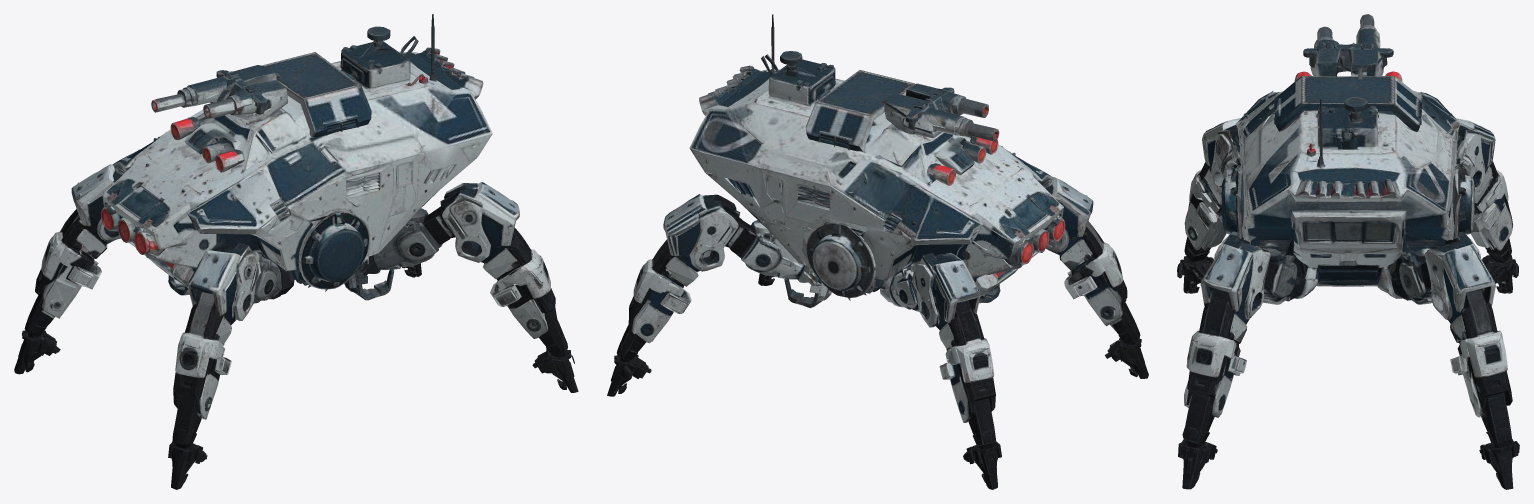
The model's file is fb_fed_typhon.glb.
3 views of the same model, side by side, from view 1: azimuth 30°, elevation 25°; view 2: azimuth 150°, elevation 25°; view 3: azimuth 270°, elevation 25° (orthographic). The views are drawn at different scales.
Size of the model in its own units: 1.9 by 1.55 by 1.37.
1 material, 1 textured.
